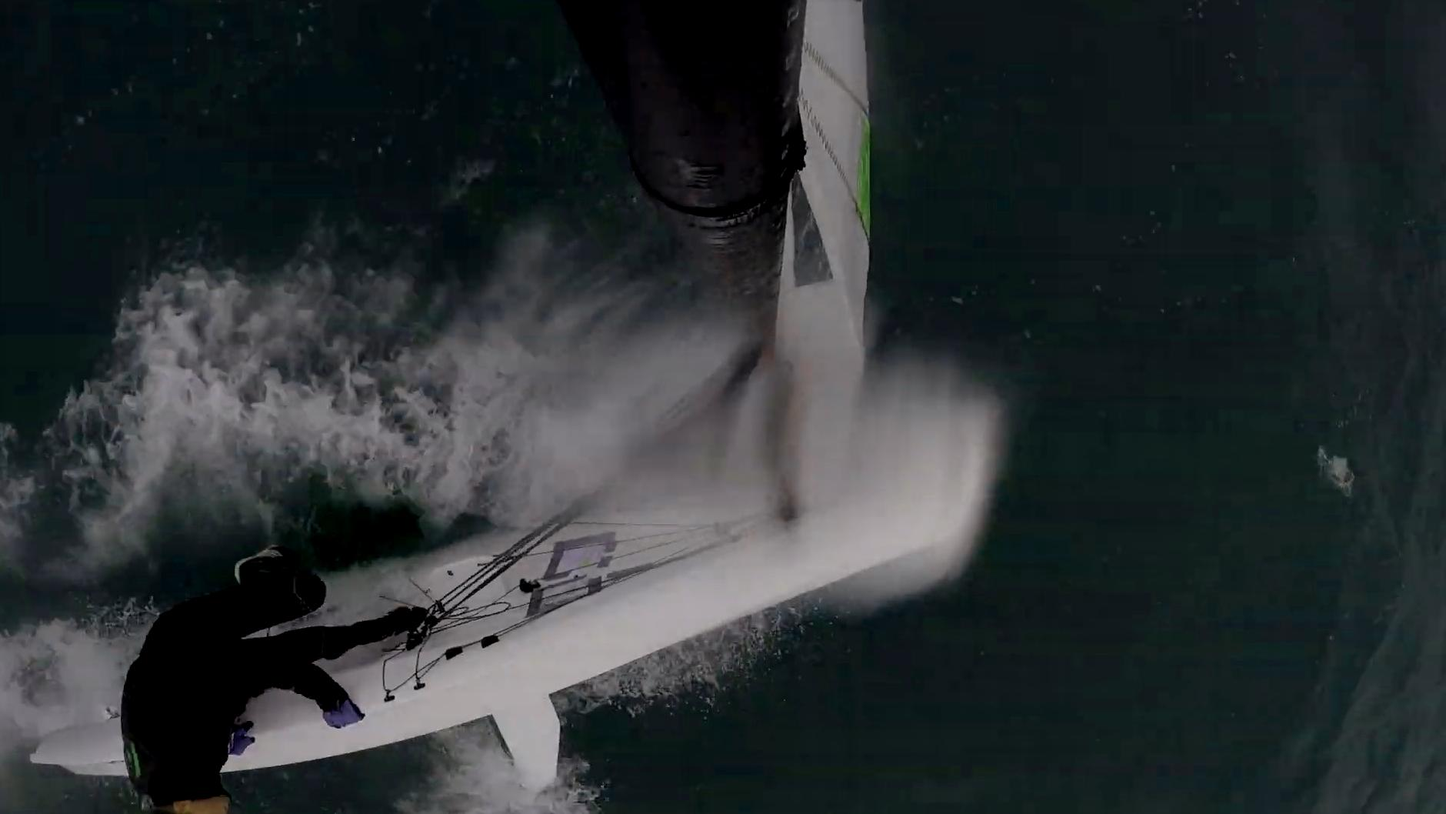boat: (32, 0, 919, 790)
person: (119, 549, 432, 814)
sea: (223, 0, 1446, 814), (0, 0, 741, 814)
